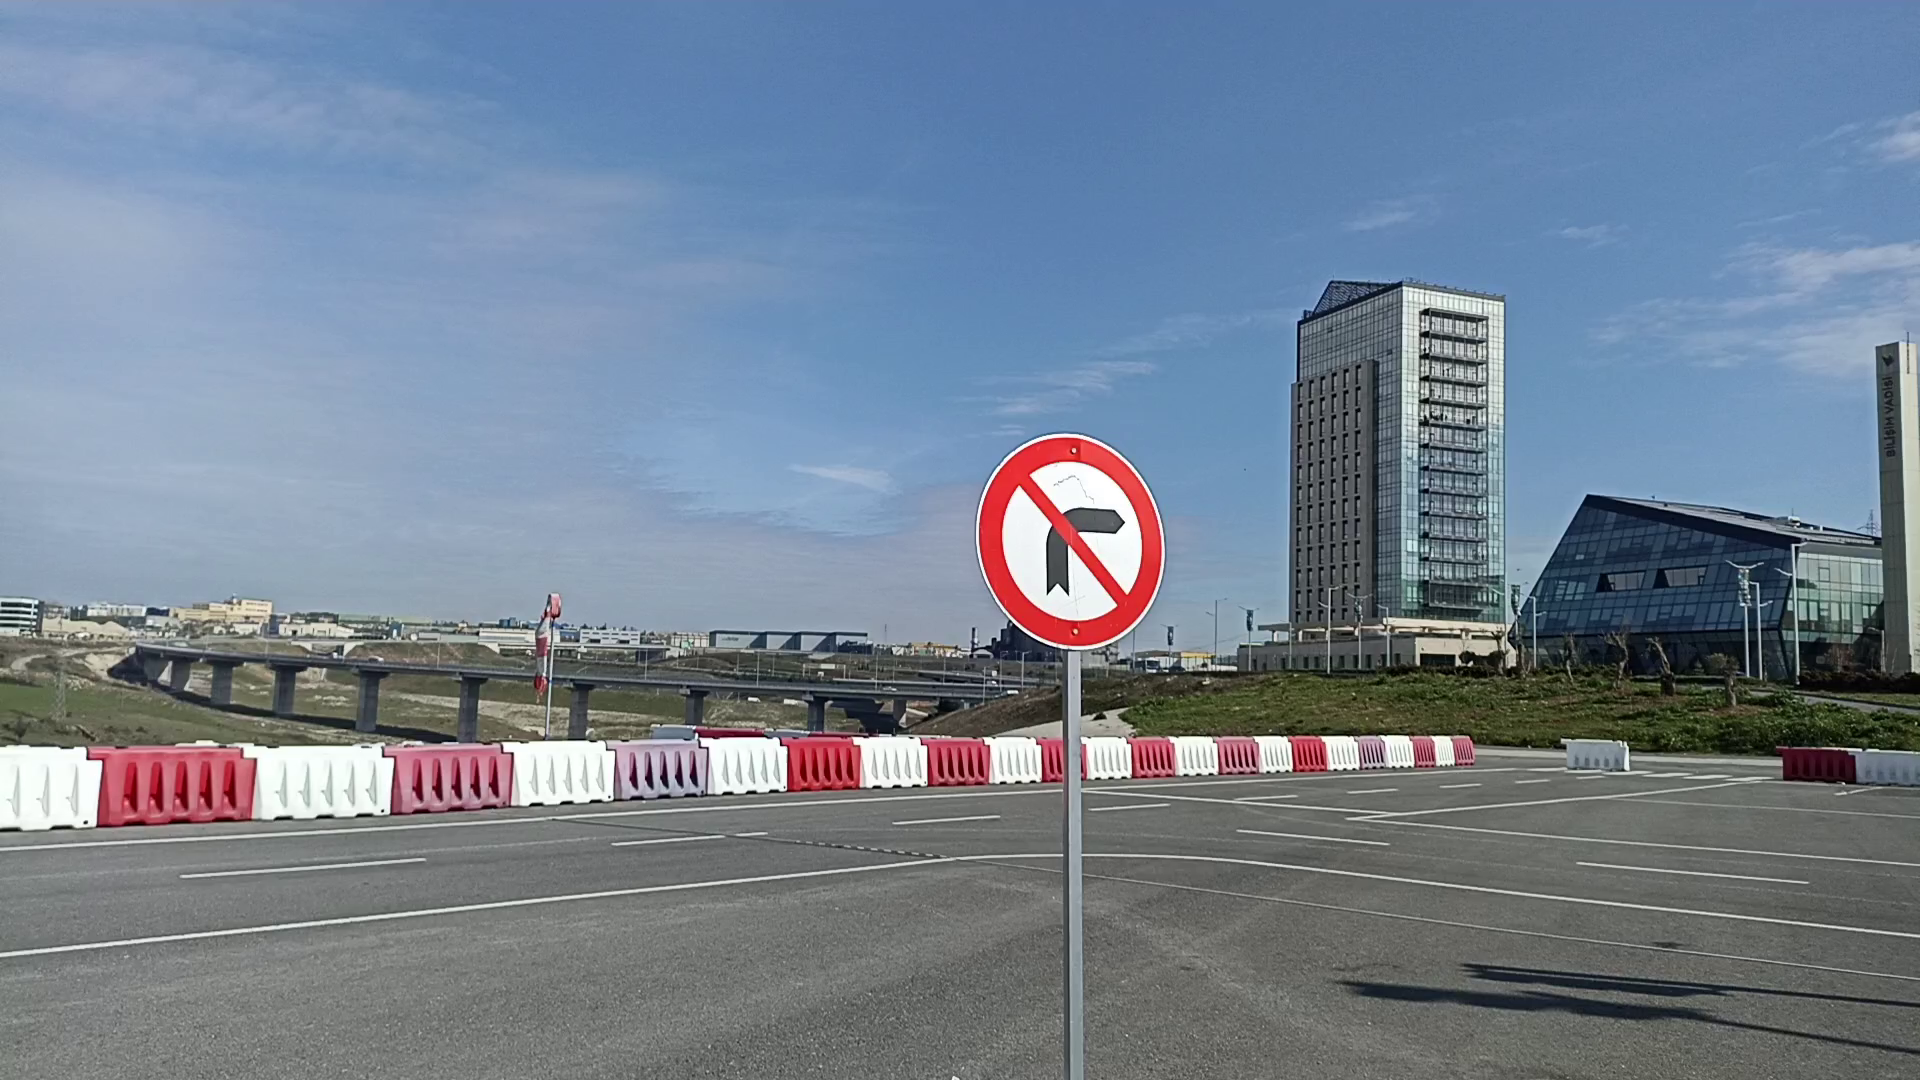noleftturn: (971, 429, 1170, 654)
